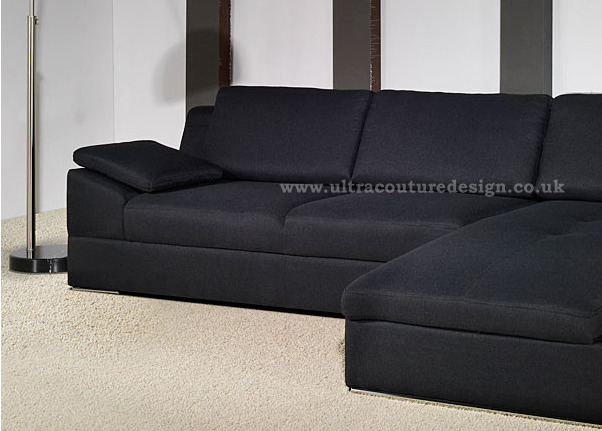chairs: (62, 82, 602, 431)
